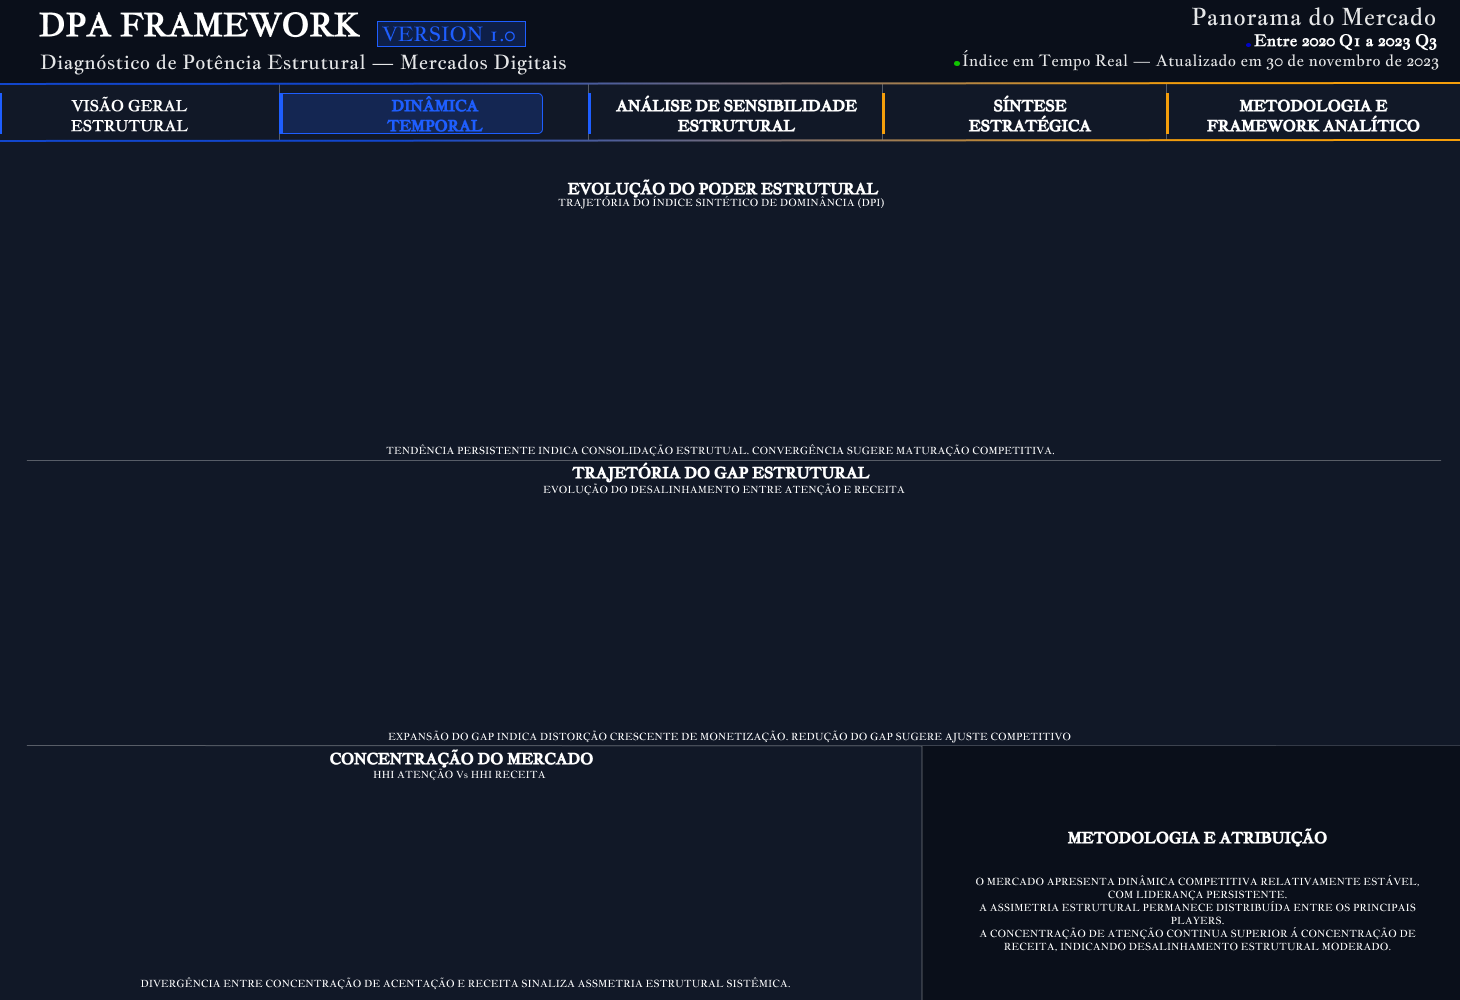

The page's visual inventory and layout, read from the dashboard file:
{"tool":"powerbi","page":{"name":"Dinâmica Temporal","canvas":[1460,1000],"ordinal":1},"visuals":[{"type":"lineChart","fields":{"Category":["FATO_USUARIOS_TRIMESTRAL.AnoTrimestre"],"Series":["DIM_PLATAFORMA.Plataforma"],"Y":["FATO_USUARIOS_TRIMESTRAL.DPI Score"]},"box":[18.6,202.9,1420.7,243.6],"z":0},{"type":"lineChart","fields":{"Category":["DIM_CALENDARIO.AnoTrimestre"],"Y":["FATO_USUARIOS_TRIMESTRAL.Power Gap"],"Series":["DIM_PLATAFORMA.Plataforma"]},"box":[18.2,490,1420.9,239.1],"z":1000},{"type":"columnChart","fields":{"Category":["DIM_CALENDARIO.AnoTrimestre"],"Y":["FATO_USUARIOS_TRIMESTRAL.HHI_A","FATO_USUARIOS_TRIMESTRAL.HHI_R"]},"box":[18.6,772.9,902.9,202.9],"z":2000},{"type":"slicer","title":"PLATAFORMA","fields":{"Values":["DIM_PLATAFORMA.Plataforma"]},"box":[1107.1,150,168.6,52.9],"z":3000},{"type":"slicer","title":"ANOTRIMESTRE","fields":{"Values":["DIM_CALENDARIO.AnoTrimestre"]},"box":[1275.6,150.9,163.3,56.1],"z":4000}]}

Visuals, with their boxes in screenshot pixels (x1, y1, x2, y2), scaled from the page's 1460x1000 canvas onto the 1460x1000 screenshot:
lineChart - FATO_USUARIOS_TRIMESTRAL.AnoTrimestre x DIM_PLATAFORMA.Plataforma: detection(19, 203, 1439, 446)
lineChart - DIM_CALENDARIO.AnoTrimestre x FATO_USUARIOS_TRIMESTRAL.Power Gap: detection(18, 490, 1439, 729)
columnChart - DIM_CALENDARIO.AnoTrimestre x FATO_USUARIOS_TRIMESTRAL.HHI_A: detection(19, 773, 922, 976)
"PLATAFORMA" slicer: detection(1107, 150, 1276, 203)
"ANOTRIMESTRE" slicer: detection(1276, 151, 1439, 207)
